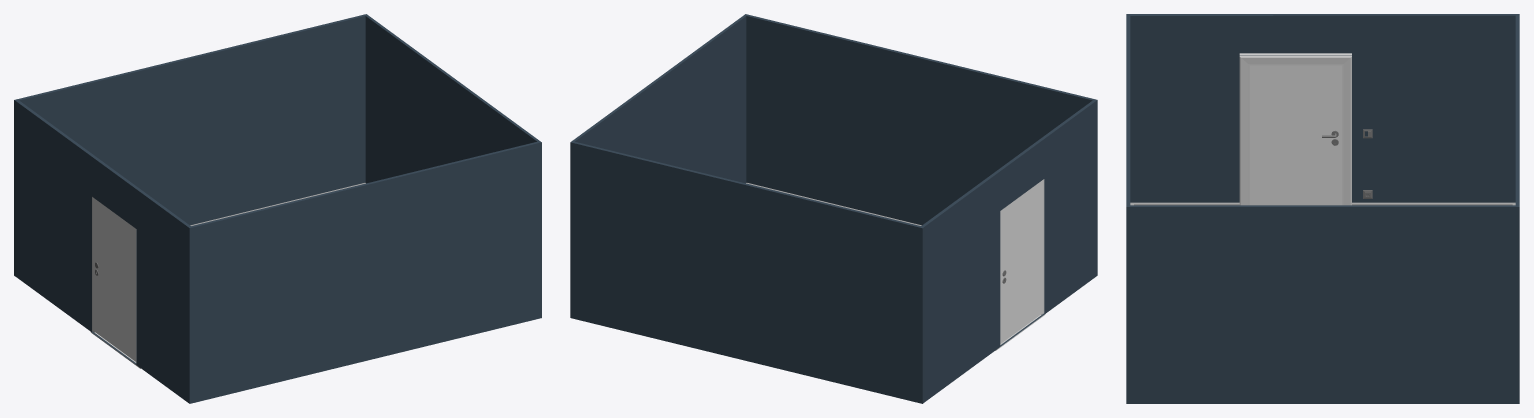
Rendered from wal.obj.
3 views of the same model, side by side, from view 1: azimuth 30°, elevation 25°; view 2: azimuth 150°, elevation 25°; view 3: azimuth 270°, elevation 25° (orthographic). The views are drawn at different scales.
Visible parts, largest first — view 1: pCube2, Door:Wall group3 Door:polySurface1 polySurface44; view 2: pCube2, Door:Wall group3 Door:polySurface1 polySurface44; view 3: pCube2, Door:Elektric Door:Wall group3 Door:polySurface1 polySurface44, Door:Wall polySurface38 group3 Door:polySurface1, Door:Elektric Door:Wall polySurface38 group3 Door:polySurface1, pCube1.
Boxes of the visible parts, x1,y1,x2,y2 form: pCube2: [14, 14, 541, 403]; Door:Wall group3 Door:polySurface1 polySurface44: [93, 197, 135, 361]; pCube2: [570, 14, 1097, 403]; Door:Wall group3 Door:polySurface1 polySurface44: [1000, 180, 1043, 343]; pCube2: [1126, 14, 1519, 403]; Door:Elektric Door:Wall group3 Door:polySurface1 polySurface44: [1249, 65, 1342, 205]; Door:Wall polySurface38 group3 Door:polySurface1: [1241, 58, 1350, 205]; Door:Elektric Door:Wall polySurface38 group3 Door:polySurface1: [1239, 53, 1351, 205]; pCube1: [1130, 202, 1515, 205].
Size of the model in its own units: 24.31 by 11.74 by 20.95.
